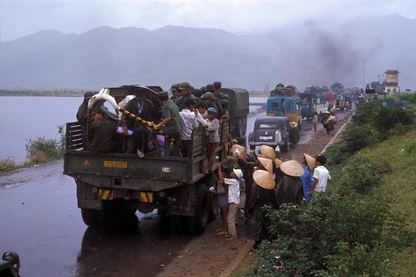car: (246, 114, 297, 152)
truck: (59, 84, 269, 241), (267, 85, 304, 140), (302, 80, 336, 122), (325, 88, 353, 113)
